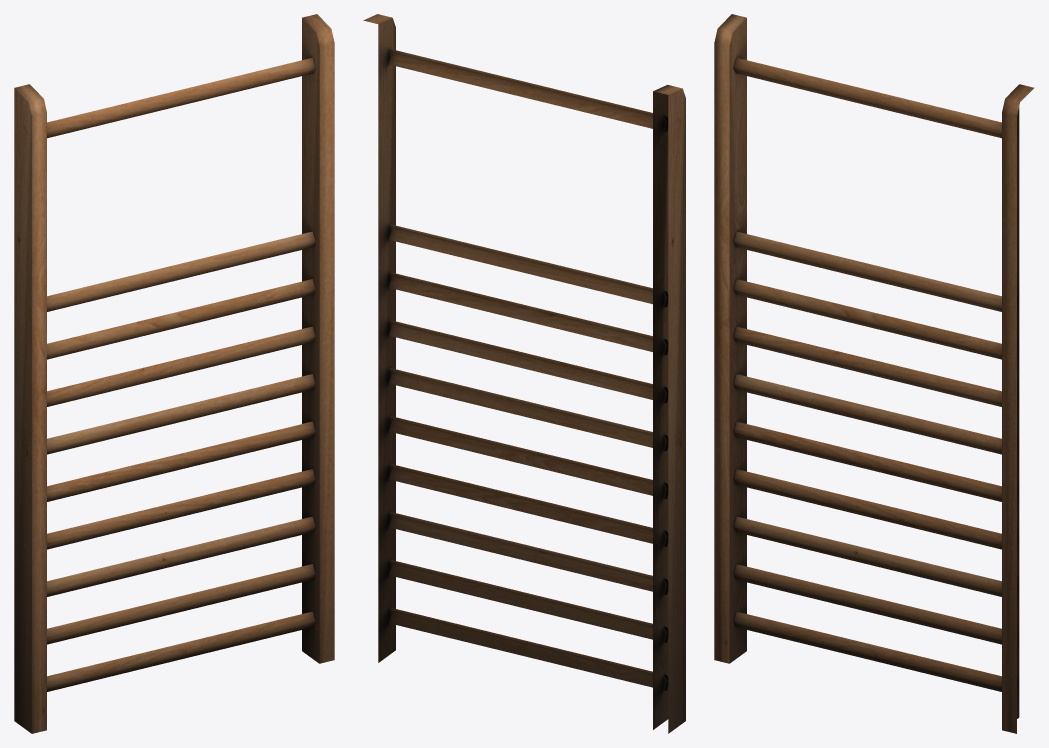
The model's file is wooden_leader_01.fbx.
3 renders of one model, left to right at view 1: azimuth 30°, elevation 25°; view 2: azimuth 150°, elevation 25°; view 3: azimuth 330°, elevation 25°, orthographic.
Parts seen in each view (by area): view 1: Cube_008; view 2: Cube_008; view 3: Cube_008.
Part boxes in pixels (x1,y1,x2,y2): Cube_008: (14,14,334,733); Cube_008: (363,14,685,733); Cube_008: (714,14,1034,733).
Bounding box in the file's own units: 2 × 4 × 0.2.
